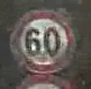limite 60: (8, 8, 78, 75)
